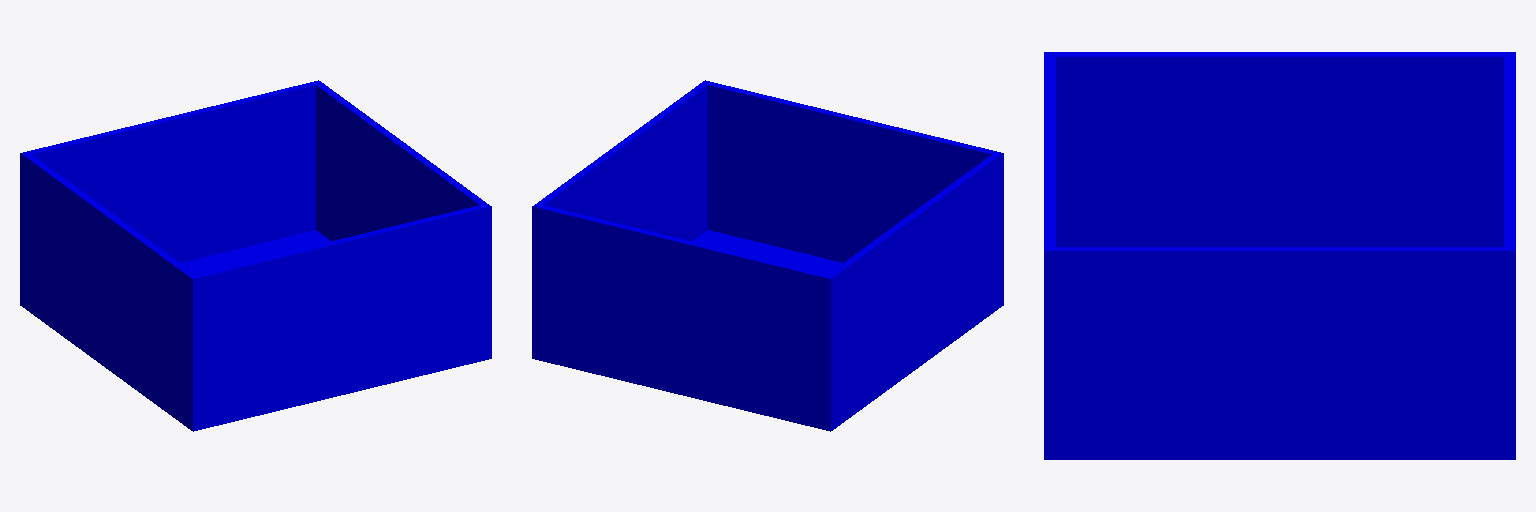
The robot description file, URDF, robot "case":
<?xml version="1.0"?>
<robot name="case">
  <link name="base_link">
    <inertial>
      <origin xyz="0 0 0.0.0025" rpy="0 0 0" />
      <mass value="100" />
      <inertia ixx="100" ixy="0" ixz="0" iyy="100" iyz="0" izz="100" />
    </inertial>

    <visual>
      <geometry>
        <box size="0.2 0.2 0.005" />
      </geometry>
      <origin xyz="0 0 0.0025" rpy="0 0 0" />
      <material name="blue">
        <color rgba="0.0 0.0 1.0 1.0" />  <!-- 蓝色 -->
      </material>
    </visual>

    <collision>
      <origin xyz="0 0 0.0025" rpy="0 0 0" />
      <geometry>
        <box size="0.2 0.2 0.005" />
      </geometry>
    </collision>
  </link>
  <link name="around_link1">
    <inertial>
      <origin xyz="0 0 0" rpy="0 0 0" />
      <mass value="100" />
      <inertia ixx="100" ixy="0" ixz="0" iyy="100" iyz="0" izz="100" />
    </inertial>

    <visual>
      <geometry>
        <box size="0.2 0.005 0.1" />
      </geometry>
      <origin xyz="0 0 0" rpy="0 0 0" />
      <material name="blue">
        <color rgba="0.0 0.0 1.0 1.0" />  <!-- 蓝色 -->
      </material>
    </visual>

    <collision>
      <origin xyz="0 0 0" rpy="0 0 0" />
      <geometry>
        <box size="0.2 0.005 0.1" />
      </geometry>
    </collision>
  </link>
  <link name="around_link2">
    <inertial>
      <origin xyz="0 0 0" rpy="0 0 0" />
      <mass value="100" />
      <inertia ixx="100" ixy="0" ixz="0" iyy="100" iyz="0" izz="100" />
    </inertial>

    <visual>
      <geometry>
        <box size="0.2 0.005 0.1" />
      </geometry>
      <origin xyz="0 0 0" rpy="0 0 0" />
      <material name="blue">
        <color rgba="0.0 0.0 1.0 1.0" />  <!-- 蓝色 -->
      </material>
    </visual>

    <collision>
      <origin xyz="0 0 0" rpy="0 0 0" />
      <geometry>
        <box size="0.2 0.005 0.1" />
      </geometry>
    </collision>
  </link>
  <link name="around_link3">
    <inertial>
      <origin xyz="0 0 0" rpy="0 0 0" />
      <mass value="100" />
      <inertia ixx="100" ixy="0" ixz="0" iyy="100" iyz="0" izz="100" />
    </inertial>

    <visual>
      <geometry>
        <box size="0.005 0.205 0.1" />
      </geometry>
      <origin xyz="0 0 0" rpy="0 0 0" />
      <material name="blue">
        <color rgba="0.0 0.0 1.0 1.0" />  <!-- 蓝色 -->
      </material>
    </visual>

    <collision>
      <origin xyz="0 0 0" rpy="0 0 0" />
      <geometry>
        <box size="0.005 0.205 0.1" />
      </geometry>
    </collision>
  </link>
  <link name="around_link4">
    <inertial>
      <origin xyz="0 0 0" rpy="0 0 0" />
      <mass value="100" />
      <inertia ixx="100" ixy="0" ixz="0" iyy="100" iyz="0" izz="100" />
    </inertial>

    <visual>
      <geometry>
        <box size="0.005 0.205 0.1" />
      </geometry>
      <origin xyz="0 0 0" rpy="0 0 0" />
      <material name="blue">
        <color rgba="0.0 0.0 1.0 1.0" />  <!-- 蓝色 -->
      </material>
    </visual>

    <collision>
      <origin xyz="0 0 0" rpy="0 0 0" />
      <geometry>
        <box size="0.005 0.205 0.1" />
      </geometry>
    </collision>
  </link>

  <joint name="joint1" type="fixed">
    <parent link="base_link" />
    <child link="around_link1" />
    <origin xyz="0 -0.1 0.05" rpy="0 0 0" />
  </joint>
  <joint name="joint2" type="fixed">
    <parent link="base_link" />
    <child link="around_link2" />
    <origin xyz="0 0.1 0.05" rpy="0 0 0" />
  </joint>
  <joint name="joint3" type="fixed">
    <parent link="base_link" />
    <child link="around_link3" />
    <origin xyz="-0.1 0 0.05" rpy="0 0 0" />

  </joint>
  <joint name="joint4" type="fixed">
    <parent link="base_link" />
    <child link="around_link4" />
    <origin xyz="0.1 0 0.05" rpy="0 0 0" />

  </joint>
</robot>

--- What the picture shows (computed from the rendered views, not written in the file) ---
The picture shows the robot from 3 angles, left to right: view 1: azimuth 30°, elevation 25°; view 2: azimuth 150°, elevation 25°; view 3: azimuth 270°, elevation 25°; orthographic projection.
Robot: case — 5 links, 4 joints (4 fixed); root link base_link; default pose: all joints at 0.
Links seen in each view (by area): view 1: around_link1, around_link2, around_link3, around_link4, base_link; view 2: around_link2, around_link1, around_link3, around_link4, base_link; view 3: around_link4, around_link3, around_link2, around_link1.
Link boxes in pixels (bbox=[...]): around_link1: bbox=[194, 204, 487, 430]; around_link2: bbox=[28, 81, 318, 262]; around_link3: bbox=[20, 151, 199, 431]; around_link4: bbox=[312, 80, 491, 360]; base_link: bbox=[181, 230, 330, 273]; around_link2: bbox=[536, 205, 828, 430]; around_link1: bbox=[706, 81, 995, 262]; around_link3: bbox=[824, 151, 1003, 431]; around_link4: bbox=[532, 80, 711, 360]; base_link: bbox=[693, 230, 842, 273]; around_link4: bbox=[1044, 247, 1515, 459]; around_link3: bbox=[1044, 52, 1515, 246]; around_link2: bbox=[1504, 57, 1515, 248]; around_link1: bbox=[1044, 57, 1055, 248].
Size in the robot's own frame: 0.205 by 0.205 by 0.1 metres.
Geometry: primitives only (box / cylinder / sphere), no mesh files.
